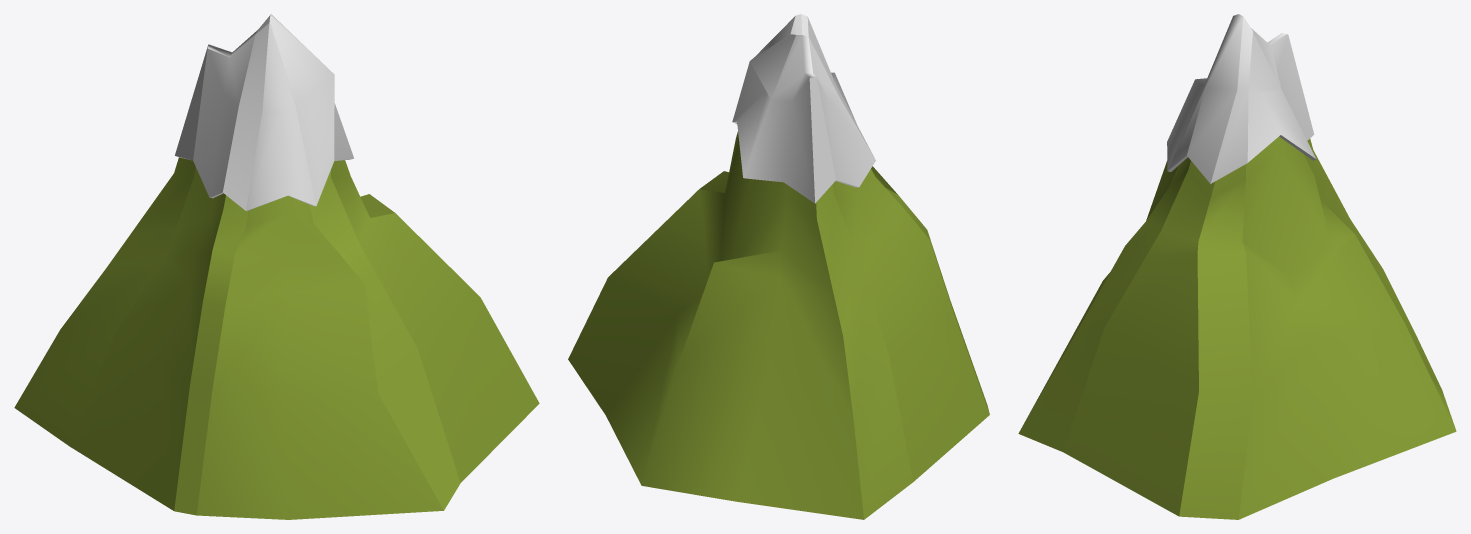
File: montagneNeige.fbx
3 views of the same model, side by side, from view 1: azimuth 30°, elevation 25°; view 2: azimuth 150°, elevation 25°; view 3: azimuth 270°, elevation 25° (orthographic). The views are drawn at different scales.
Parts seen in each view (by area): view 1: montagne; view 2: montagne; view 3: montagne.
Part boxes in pixels (x1,y1,x2,y2): montagne: [14, 14, 539, 519]; montagne: [568, 14, 989, 519]; montagne: [1018, 14, 1456, 519].
Size of the model in its own units: 2943 by 2933 by 2947.
